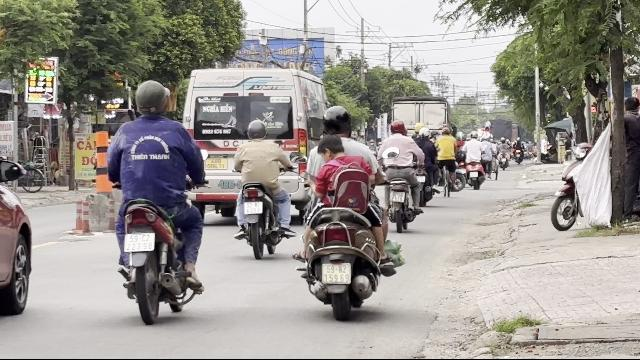helmet: (132, 80, 172, 118), (322, 104, 352, 136), (246, 119, 266, 139)
licenseplate: (124, 232, 156, 252), (322, 262, 350, 284), (244, 202, 262, 214)
motorcyclist: (104, 79, 210, 320), (291, 106, 403, 320), (230, 118, 294, 258)
nohelmet: (314, 133, 346, 161)
